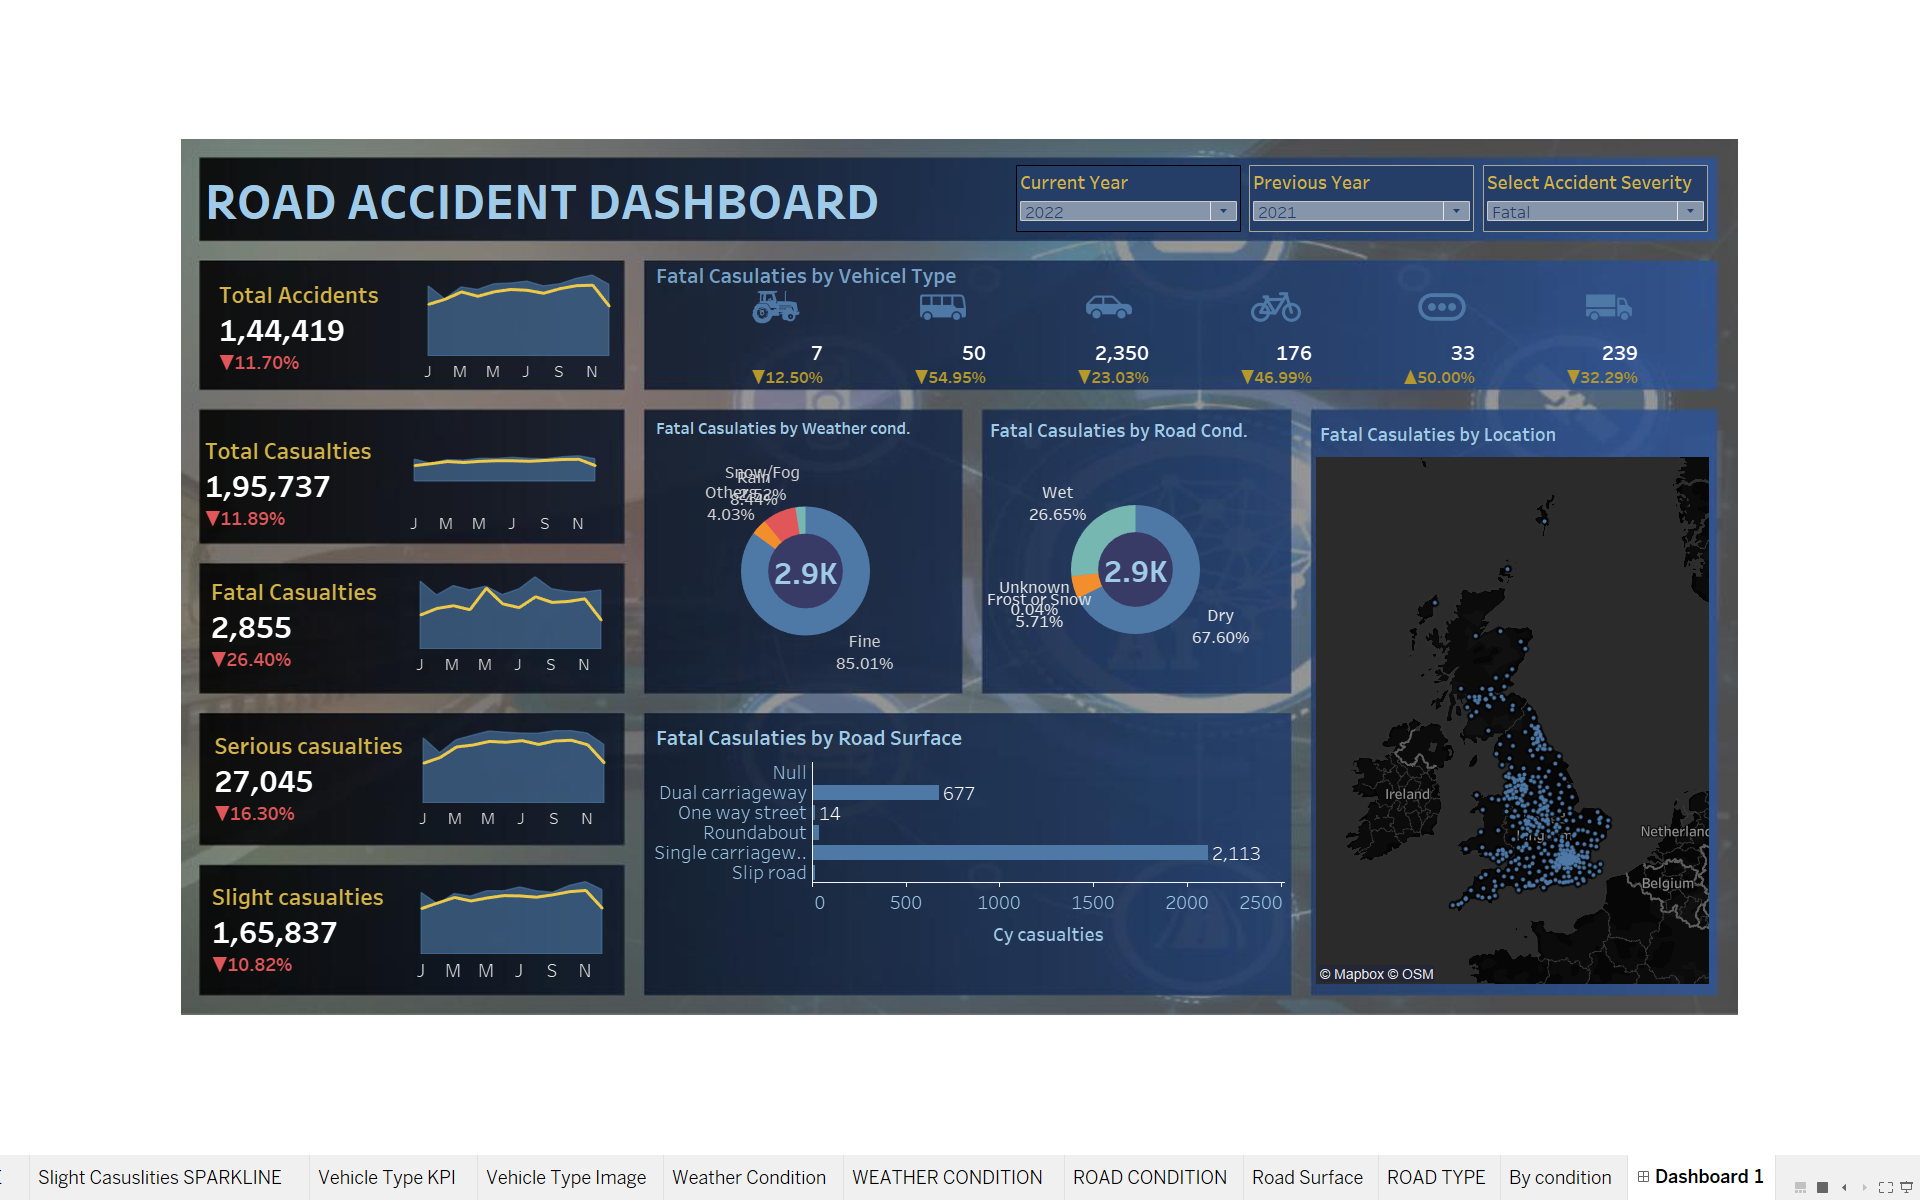

This screenshot's page, from the dashboard's own definition file:
{"tool":"tableau","page":{"name":"Dashboard 1","canvas":[1600,900],"ordinal":0},"visuals":[{"type":"image","param":"C:/Users/ROSHI/Downloads/Background.pptx.jpg","box":[8,8,1584,884]},{"type":"text","box":[41,33,729,78]},{"type":"parameter","param":"[Parameters].[Parameter 1]","box":[852,34,233.3,75]},{"type":"parameter","param":"[Parameters].[Current Year (copy)_1293096050278162433]","box":[1085.3,34,233.3,75]},{"type":"parameter","param":"[Parameters].[Parameter 2]","box":[1318.7,34,233.3,75]},{"type":"text","box":[492,136,605,25]},{"type":"worksheet","title":"Total Accidents","mark":"Automatic","box":[51,140,205,120]},{"type":"worksheet","title":"ACCIDENT SPARKLINE","mark":"Automatic","rows":["Current Year Accidents (copy)_1293096050280693765","Calculation_1293096050278330370"],"cols":["Accident Date"],"box":[256,140,205,120]},{"type":"worksheet","title":"Vehicle Type Image","mark":"Shape","box":[499,158,1054,44]},{"type":"worksheet","title":"Vehicle Type KPI ","mark":"Automatic","box":[499,202,1054,77]},{"type":"worksheet","title":"WEATHER CONDITION ","mark":"Pie","rows":["Calculation_1041457421528555524","Calculation_1041457421528633350"],"box":[492,286,307,279]},{"type":"worksheet","title":"ROAD CONDITION","mark":"Pie","rows":["Calculation_1041457421528555524","Calculation_1041457421528633350"],"box":[826,286,299,273]},{"type":"worksheet","title":"By condition","mark":"Automatic","rows":["Latitude"],"cols":["Longitude"],"box":[1156,290,393,567]},{"type":"worksheet","title":"Total Casualities","mark":"Automatic","box":[37,301,205,110]},{"type":"worksheet","title":"Casuslities SPARKLINE ","mark":"Automatic","rows":["Cy casualties (copy)_1540231079868379137","Calculation_1540231079867637760"],"cols":["Accident Date"],"box":[242,301,205,110]},{"type":"worksheet","title":"Fatal Casualities","mark":"Automatic","box":[43,442,205,110]},{"type":"worksheet","title":"Fatal Casuslities SPARKLINE ","mark":"Automatic","rows":["Cy fatal casulties (copy)_1540231079870550021","Calculation_1540231079869878275"],"cols":["Accident Date"],"box":[248,442,205,110]},{"type":"worksheet","title":"ROAD TYPE","mark":"Automatic","rows":["Road_Type"],"cols":["Calculation_1540231079867637760"],"box":[492,592,633,270]},{"type":"worksheet","title":"Serious Casualities","mark":"Automatic","box":[46,596,205,110]},{"type":"worksheet","title":"Serious Casuslities SPARKLINE ","mark":"Automatic","rows":["Py fatal casulties (copy)_1540231079871746056","Cy fatal casulties (copy)_1540231079871598599"],"cols":["Accident Date"],"box":[251,596,205,110]},{"type":"worksheet","title":"Slight Casualities","mark":"Automatic","box":[44,747,205,110]},{"type":"worksheet","title":"Slight Casuslities SPARKLINE ","mark":"Automatic","rows":["Py Serious casulties (copy)_1540231079872643084","Cy Serious casulties (copy)_1540231079872507915"],"cols":["Accident Date"],"box":[249,747,205,110]}]}

Visuals, with their boxes on the page's 1600x900 design canvas (x1, y1, x2, y2). These are canvas units, not pixel positions in the 1920x1200 screenshot, which may show the page scaled, cropped or inside an application window:
image: 8/8/1592/892
text: 41/33/770/111
parameter: 852/34/1085/109
parameter: 1085/34/1319/109
parameter: 1319/34/1552/109
text: 492/136/1097/161
"Total Accidents" worksheet: 51/140/256/260
"ACCIDENT SPARKLINE" worksheet: 256/140/461/260
"Vehicle Type Image" worksheet (Shape marks): 499/158/1553/202
"Vehicle Type KPI " worksheet: 499/202/1553/279
"WEATHER CONDITION " worksheet (Pie marks): 492/286/799/565
"ROAD CONDITION" worksheet (Pie marks): 826/286/1125/559
"By condition" worksheet: 1156/290/1549/857
"Total Casualities" worksheet: 37/301/242/411
"Casuslities SPARKLINE " worksheet: 242/301/447/411
"Fatal Casualities" worksheet: 43/442/248/552
"Fatal Casuslities SPARKLINE " worksheet: 248/442/453/552
"ROAD TYPE" worksheet: 492/592/1125/862
"Serious Casualities" worksheet: 46/596/251/706
"Serious Casuslities SPARKLINE " worksheet: 251/596/456/706
"Slight Casualities" worksheet: 44/747/249/857
"Slight Casuslities SPARKLINE " worksheet: 249/747/454/857
